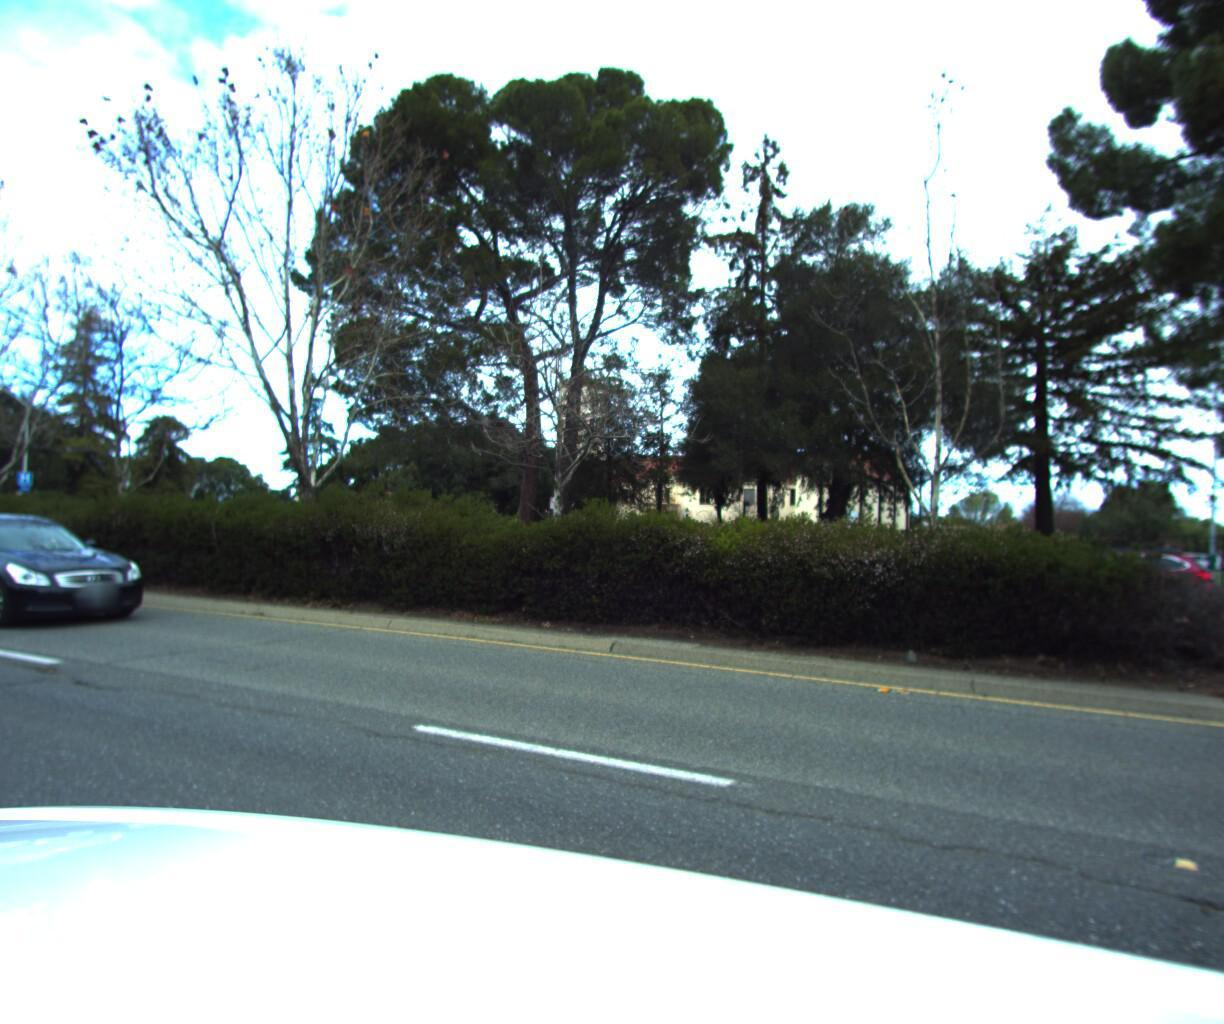car: (0, 510, 161, 637), (997, 537, 1224, 622)
